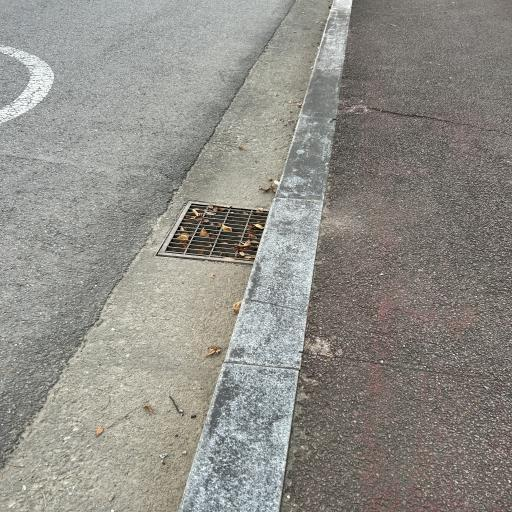debris: (190, 204, 225, 223), (234, 240, 256, 260), (178, 226, 189, 248), (247, 223, 257, 240), (217, 223, 233, 232), (199, 228, 209, 237), (252, 224, 265, 230), (256, 207, 267, 213)
drain: (156, 200, 272, 264)
